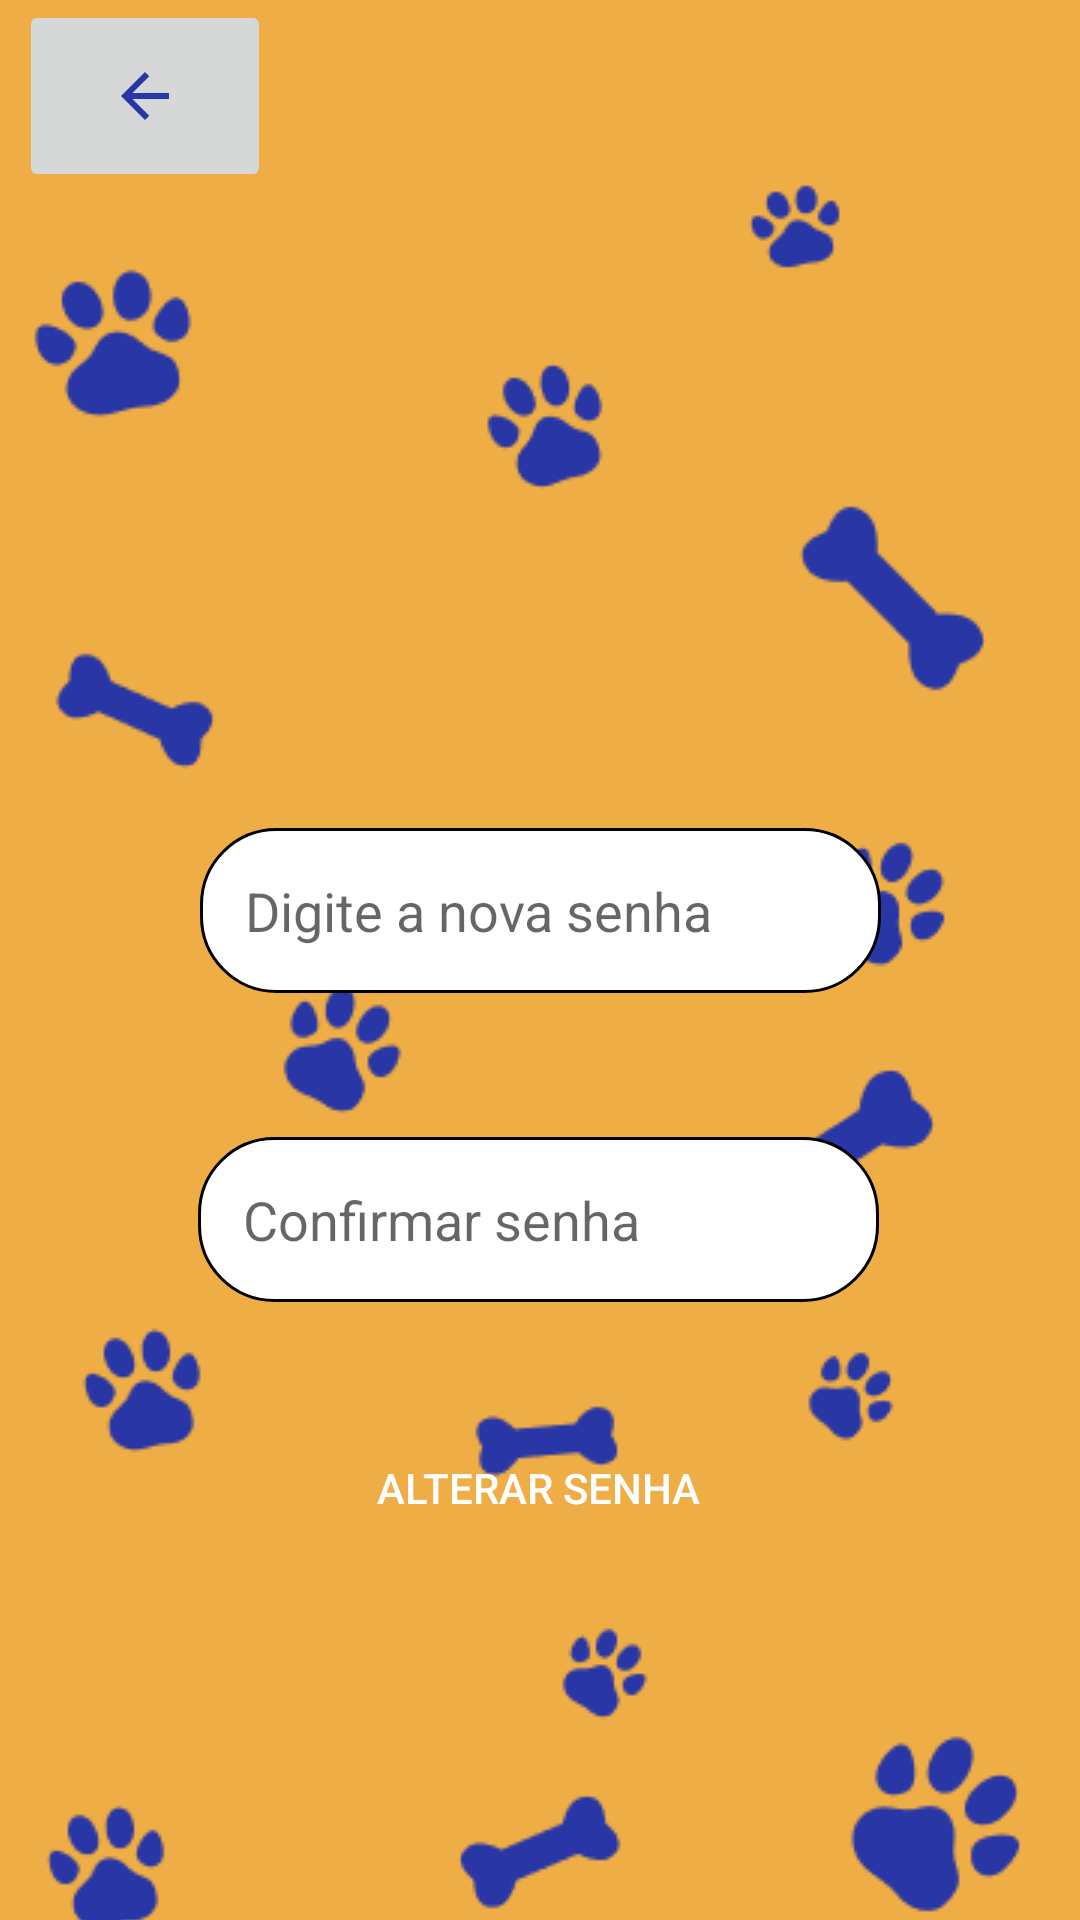

Screen size 1080px×1920px. Icon name, then its box in pixels as (x1, y1, x2, y2):
arrow back: (31, 18, 259, 174)
